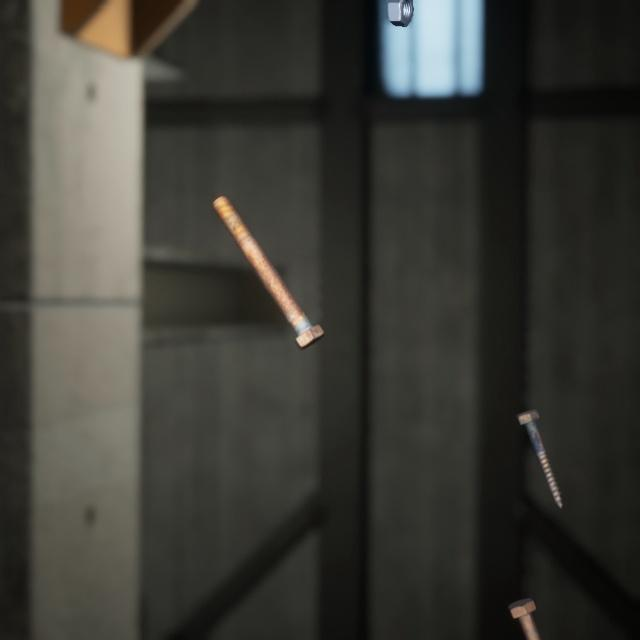bolt: (207, 174, 328, 337), (511, 384, 567, 492), (502, 569, 555, 640)
nut: (383, 0, 418, 25)
